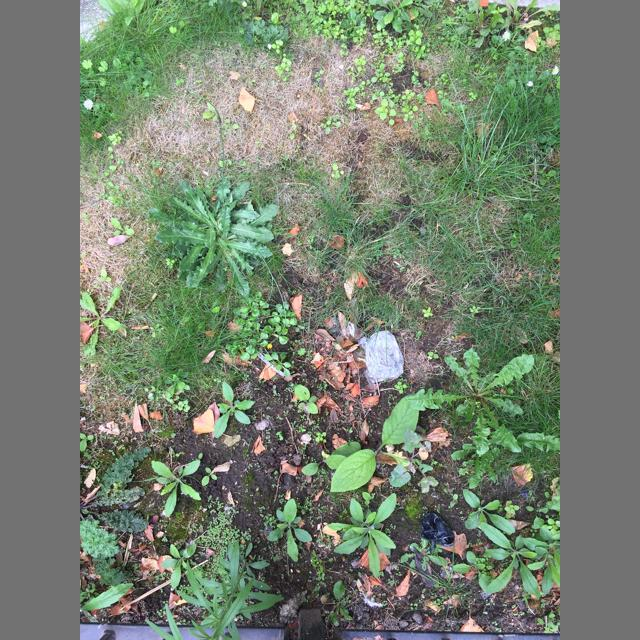litter: (357, 330, 404, 390), (420, 513, 455, 554), (328, 317, 366, 342)
